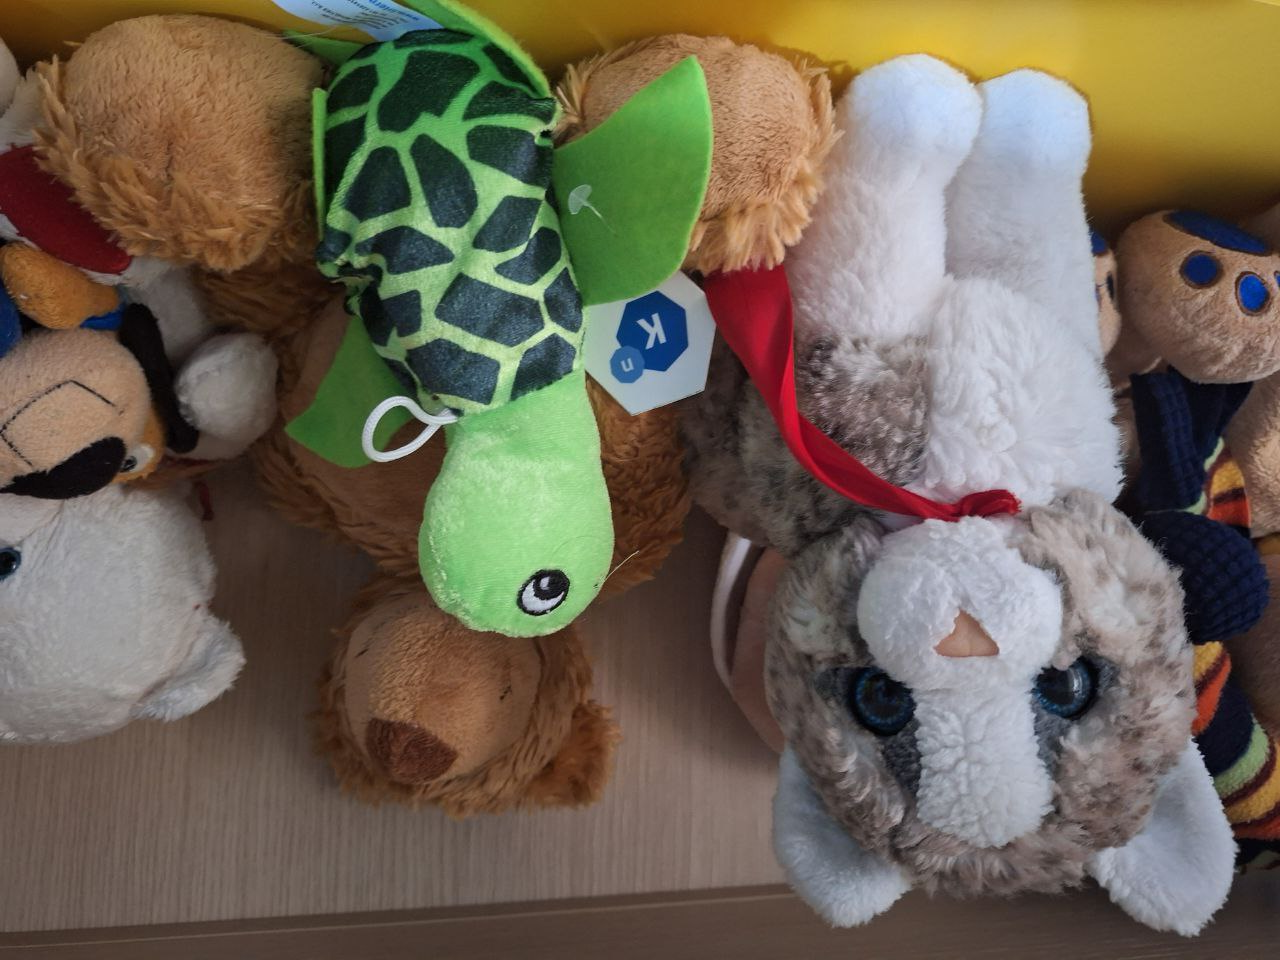knative: (610, 289, 690, 384)
